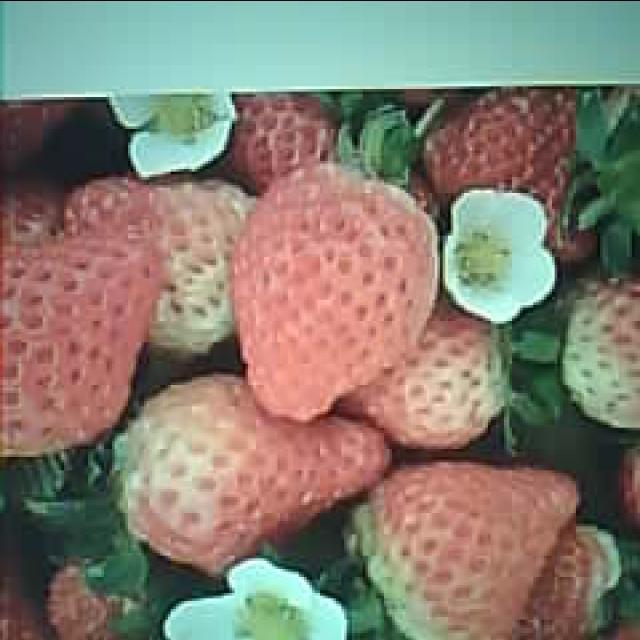strawberry: (121, 374, 385, 571), (236, 169, 440, 417), (365, 461, 587, 640)
